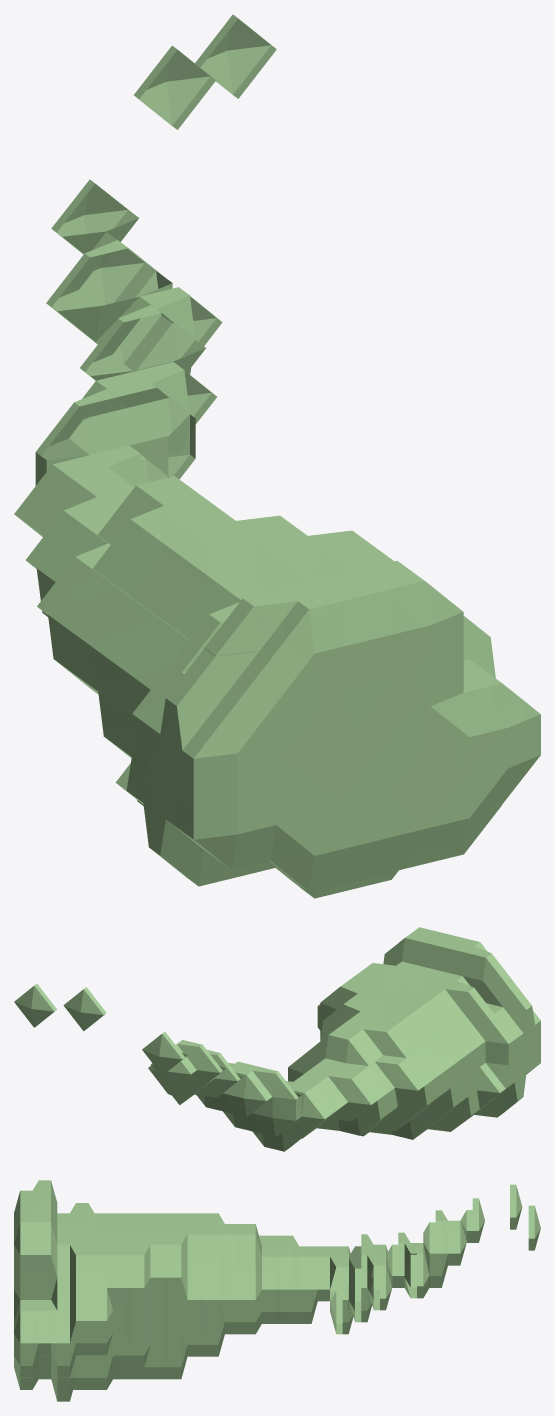
Rendered from SVV_DA1.gltf.
3 renders of one model, top to bottom at view 1: azimuth 30°, elevation 25°; view 2: azimuth 150°, elevation 25°; view 3: azimuth 270°, elevation 25°, orthographic. The views are drawn at different scales.
Parts seen in each view (by area): view 1: DA1; view 2: DA1; view 3: DA1.
Boxes of the visible parts, left/top/right/bottom form: DA1: left=14, top=14, right=540, bottom=898; DA1: left=14, top=927, right=540, bottom=1151; DA1: left=14, top=1180, right=540, bottom=1401.
Size of the model in its own units: 7168 by 6142 by 10885.
